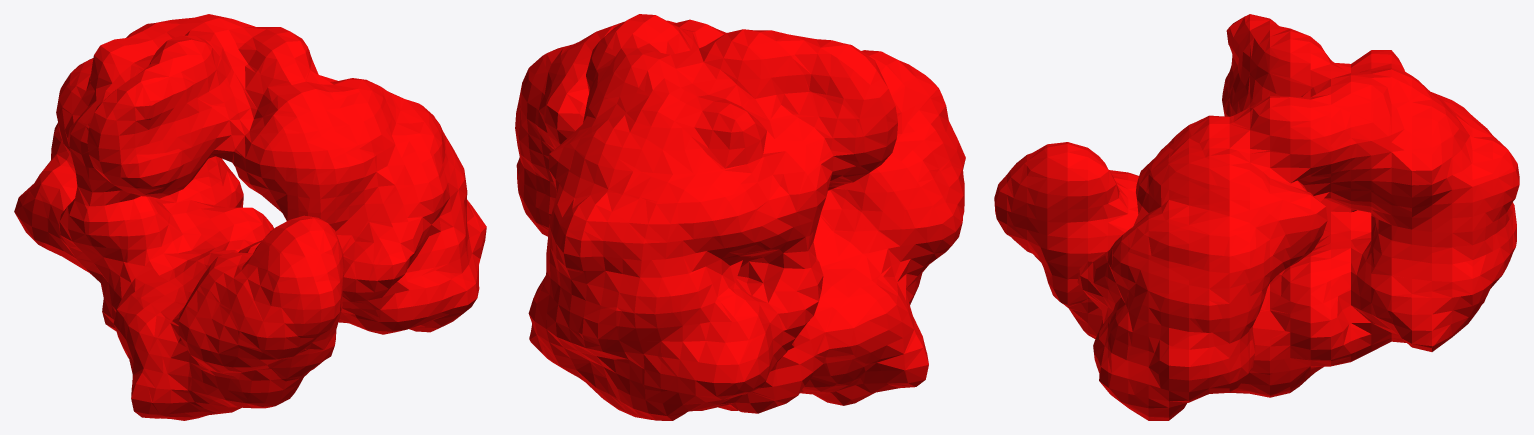
Rendered from lldP_coarse.dae.
3 views of the same model, side by side, from view 1: azimuth 30°, elevation 25°; view 2: azimuth 150°, elevation 25°; view 3: azimuth 270°, elevation 25° (orthographic). The views are drawn at different scales.
Parts seen in each view (by area): view 1: lldP; view 2: lldP; view 3: lldP.
Boxes of the visible parts, x1,y1,x2,y2 form: lldP: (14, 14, 486, 420); lldP: (515, 14, 965, 420); lldP: (994, 14, 1519, 420).
Size of the model in its own units: 70.81 by 64.44 by 88.52.
